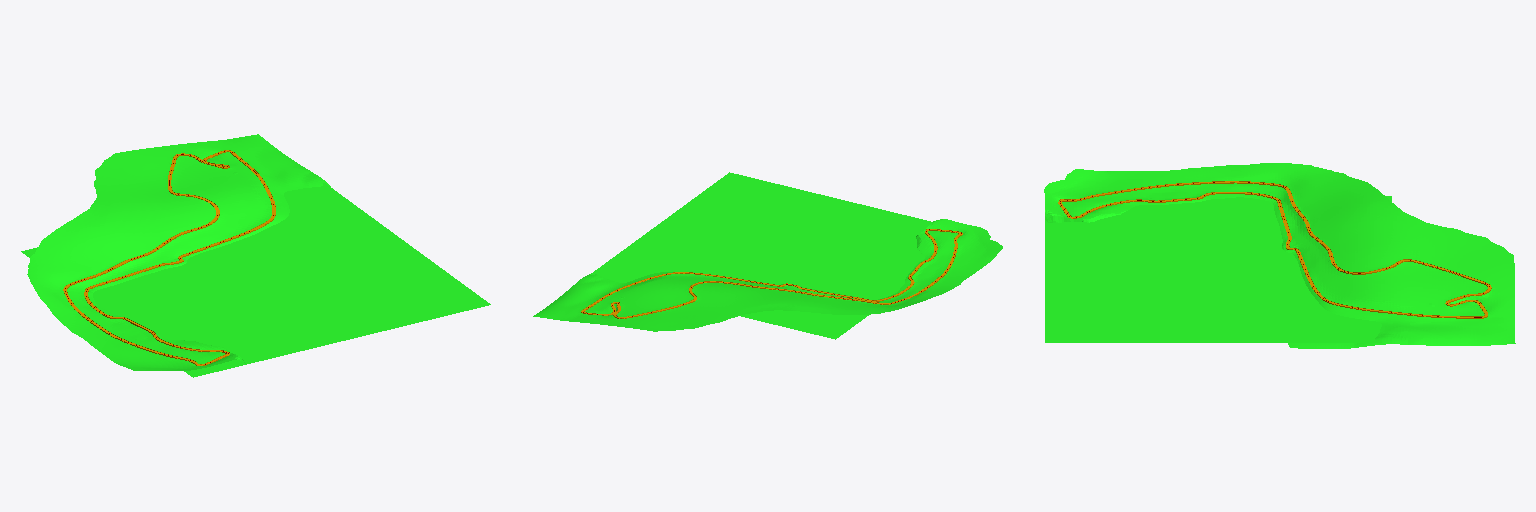
robot.urdf — circuito:
<?xml version="1.0" ?>
<robot name="circuito">
  <link name="link">
    <visual>
      <origin rpy="0 0 0" xyz="0 0 3"/>
      <geometry>
        <mesh filename="package://f1/models/monaco/meshes/monaco.dae" scale="0.2 0.2 0.2"/>
      </geometry>
      <material name="green">
        <color rgba="0.2 1 0.2 1"/>
      </material>
    </visual>
    <visual>
      <origin rpy="0 0 0" xyz="0 0 3"/>
      <geometry>
        <mesh filename="package://f1/models/monaco/meshes/monaco_track.dae" scale="0.2 0.2 0.2"/>
      </geometry>
    </visual>
  </link>
</robot>

--- Render facts (derived) ---
Views: 3 orthographic renders of the robot side by side, from view 1: azimuth 30°, elevation 25°; view 2: azimuth 150°, elevation 25°; view 3: azimuth 270°, elevation 25°.
Model circuito with 1 links and 0 joints (none), rooted at link, posed all joints at 0.
Links seen in each view (by area): view 1: link; view 2: link; view 3: link.
Boxes of the visible links, <box> form: link: <box>21,134,490,377</box>; link: <box>533,172,1002,339</box>; link: <box>1044,163,1515,348</box>.
Bounding box of the posed robot: 257 × 298 × 18.74 m (x, y, z).
2 mesh visuals loaded from 2 distinct referenced files (2 Collada DAE).
